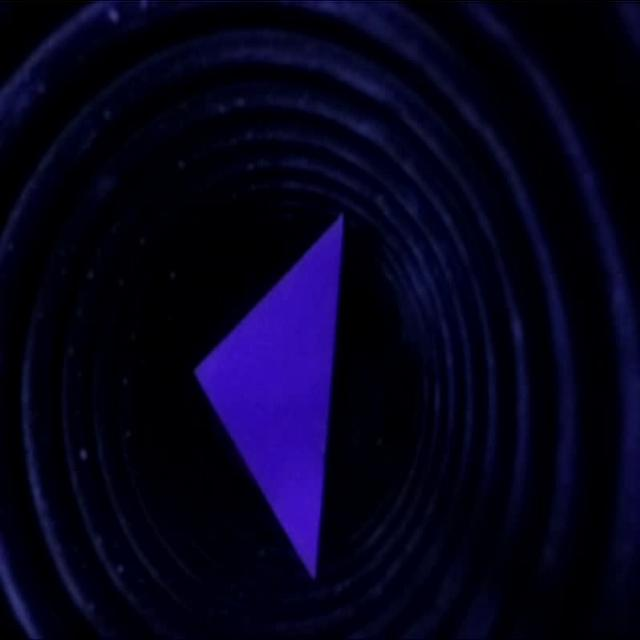obstacles: (192, 208, 351, 585)
